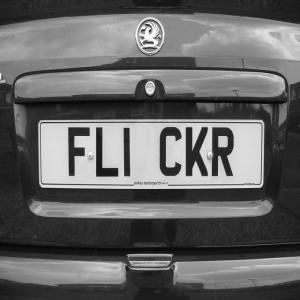Plate: (38, 119, 265, 189)
